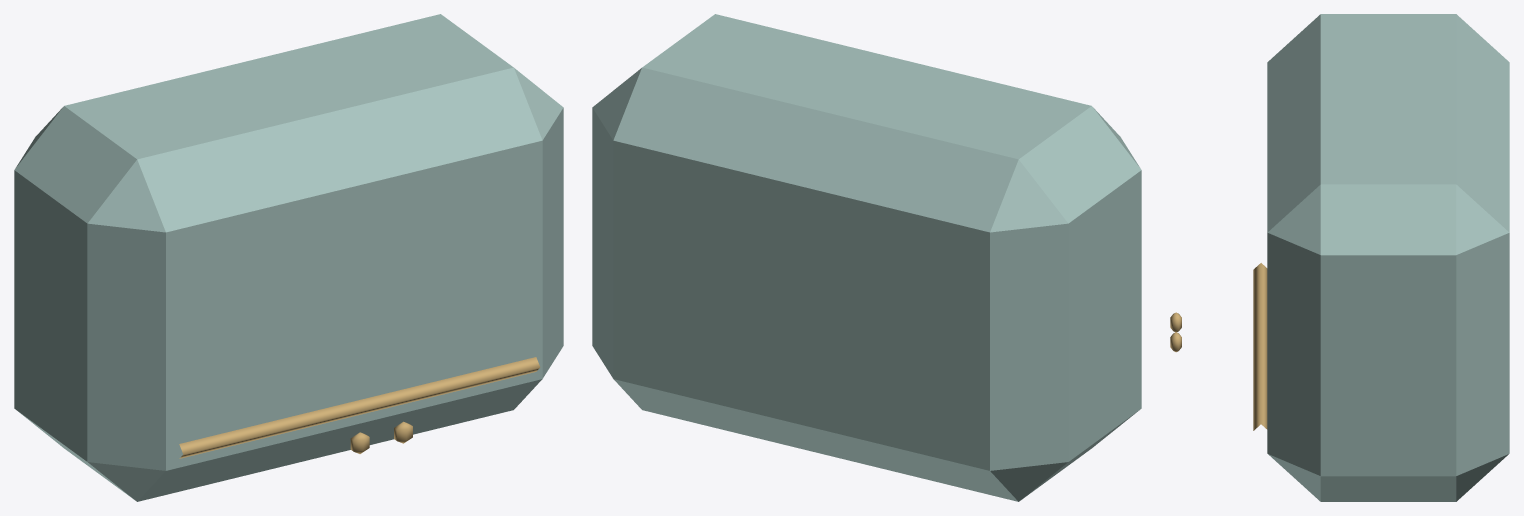
The picture shows the model from 3 angles, left to right: view 1: azimuth 30°, elevation 25°; view 2: azimuth 150°, elevation 25°; view 3: azimuth 270°, elevation 25°; orthographic projection. The views are drawn at different scales.
Visible parts, largest first — view 1: g_s16; view 2: g_s16; view 3: g_s16.
Part boxes in pixels (x1,y1,x2,y2): g_s16: [14, 14, 563, 501]; g_s16: [592, 14, 1141, 501]; g_s16: [1170, 14, 1509, 501].
Size of the model in its own units: 0.384 by 0.264 by 0.2555.
